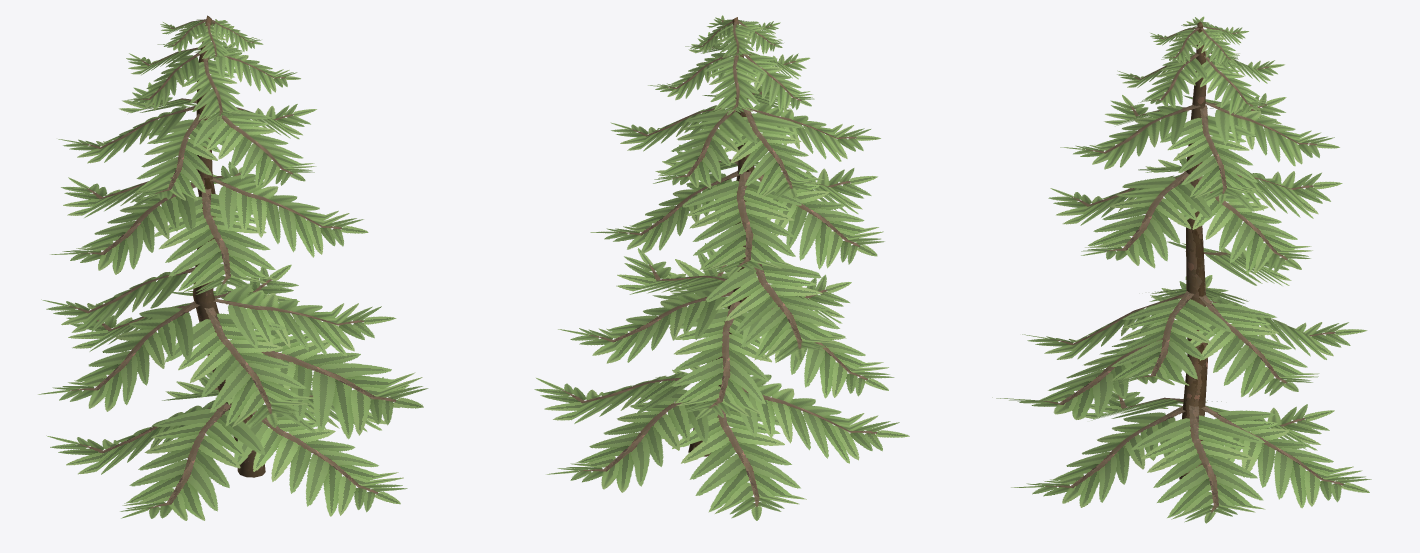
Rendered from tree_pine_3.glb.
3 renders of one model, left to right at view 1: azimuth 30°, elevation 25°; view 2: azimuth 150°, elevation 25°; view 3: azimuth 270°, elevation 25°, orthographic. The views are drawn at different scales.
Visible parts, largest first — view 1: Pine_3; view 2: Pine_3; view 3: Pine_3.
Part boxes in pixels (x1=…): Pine_3: x1=38, y1=15, x2=428, y2=520; Pine_3: x1=534, y1=15, x2=909, y2=520; Pine_3: x1=992, y1=16, x2=1371, y2=523.
Size of the model in its own units: 5.95 by 7 by 6.31.
2 materials, 2 textured.
